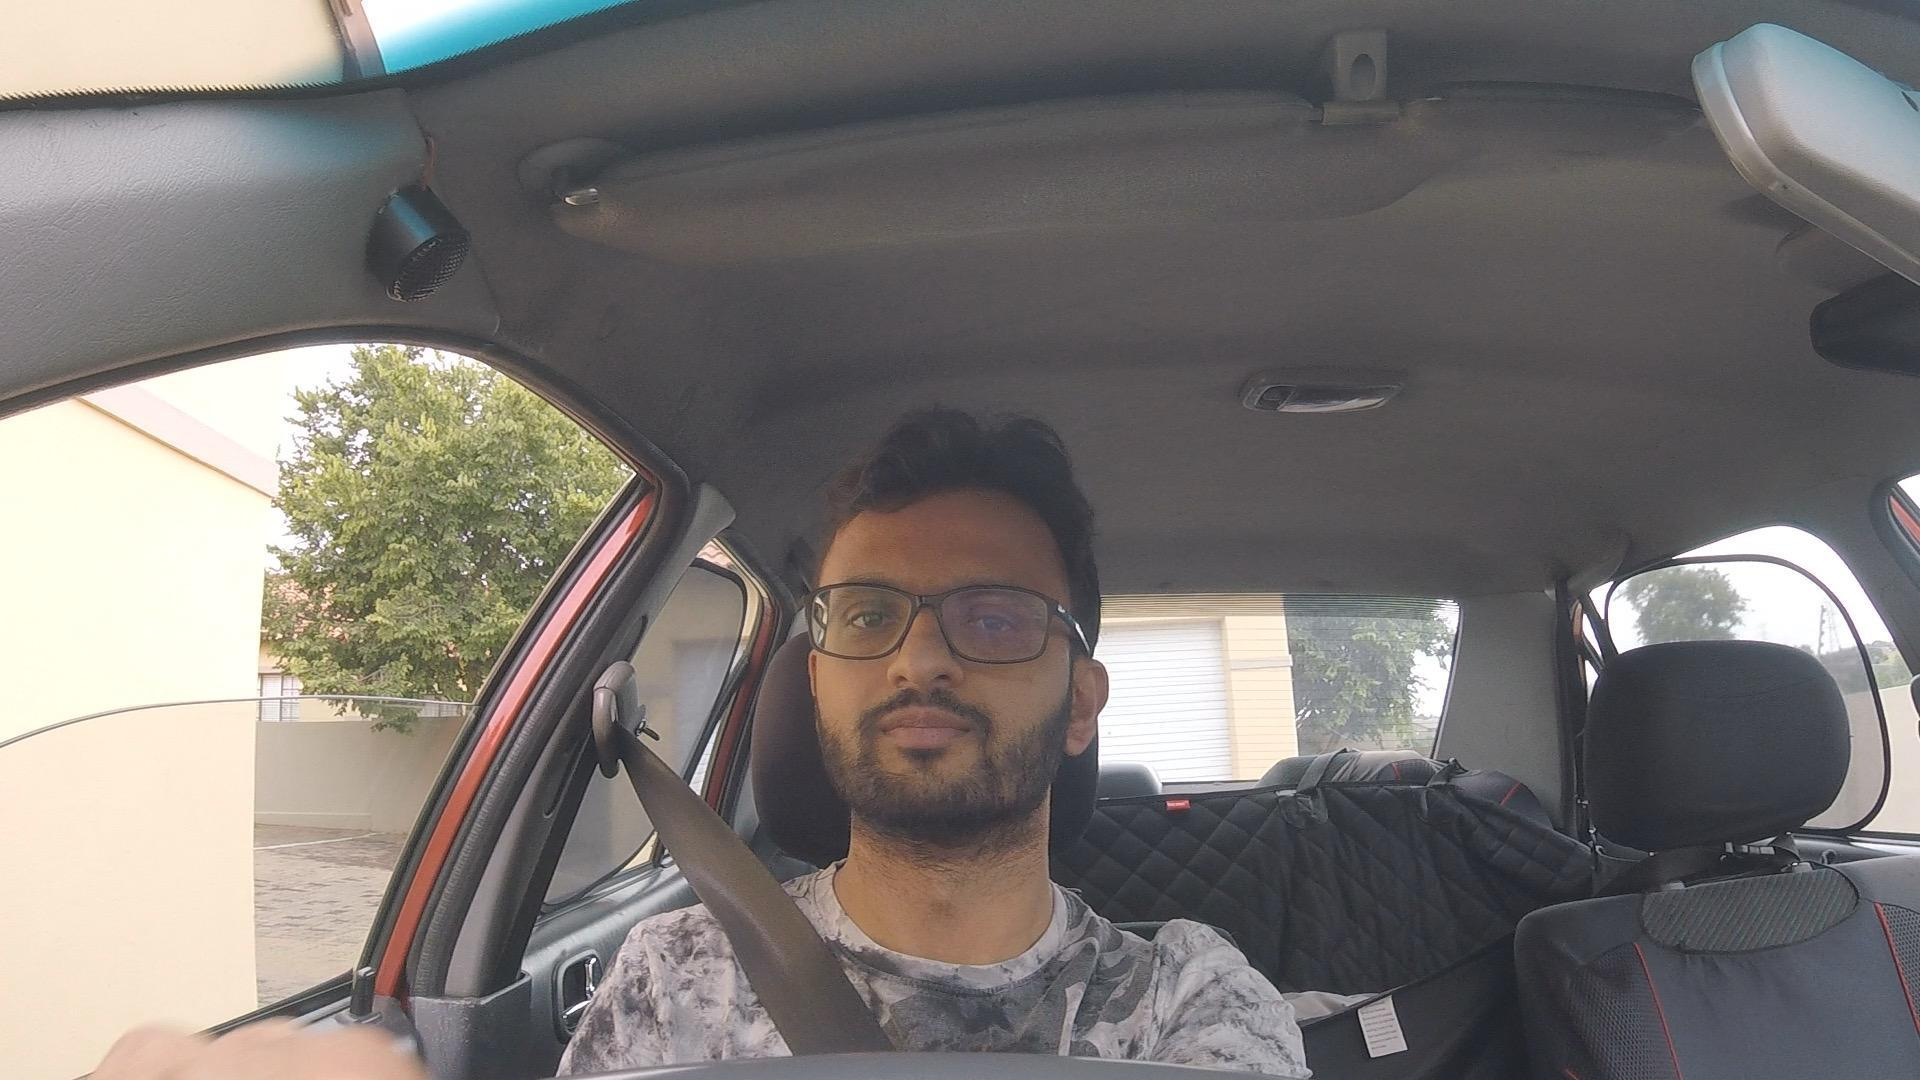SafeDriving: (808, 405, 1110, 837)
